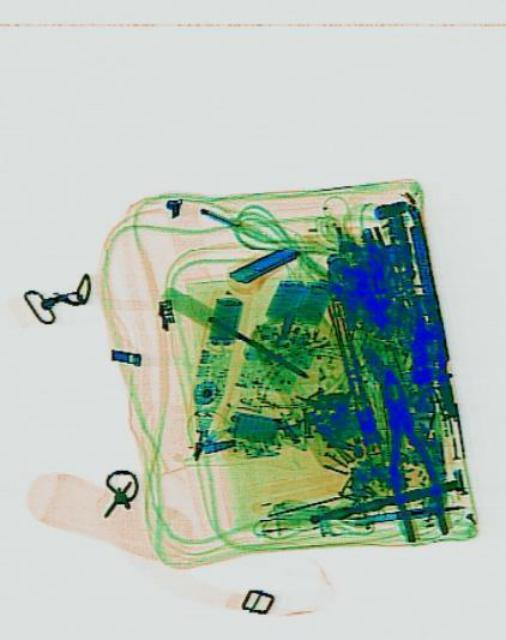Pliers: (363, 360, 448, 546)
